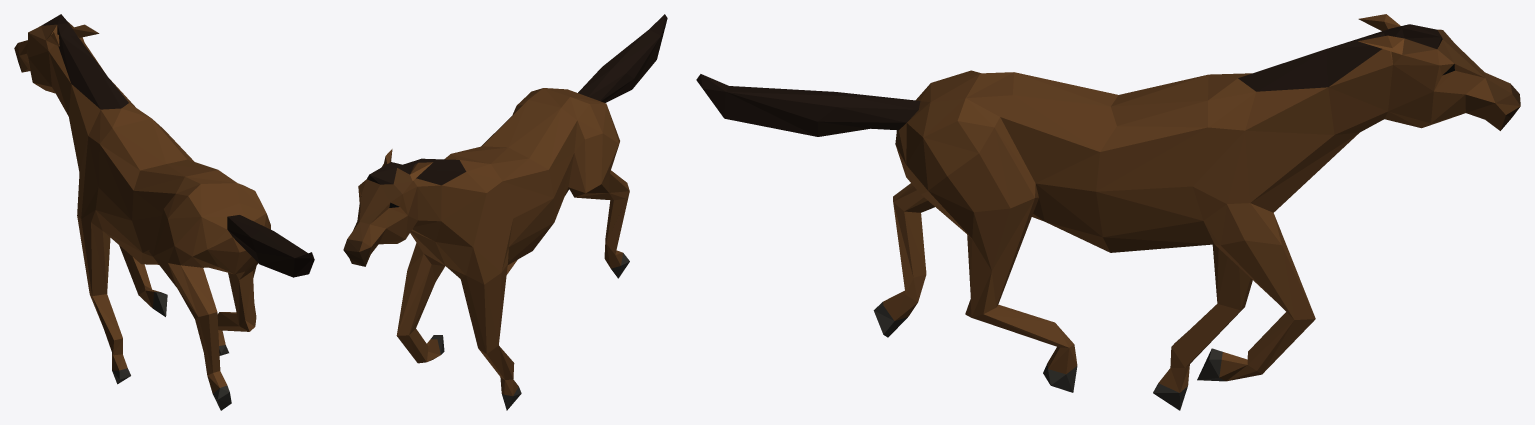
Rendered from horse-brown-running.glb.
The picture shows the model from 3 angles, left to right: view 1: azimuth 30°, elevation 25°; view 2: azimuth 150°, elevation 25°; view 3: azimuth 270°, elevation 25°; orthographic projection. The views are drawn at different scales.
Visible parts, largest first — view 1: horse-brown-running; view 2: horse-brown-running; view 3: horse-brown-running.
Part boxes in pixels (x1,y1,x2,y2): horse-brown-running: (14,14,314,410); horse-brown-running: (343,14,667,410); horse-brown-running: (696,14,1520,410).
Bounding box in the file's own units: 3.06 × 8.76 × 16.17.
